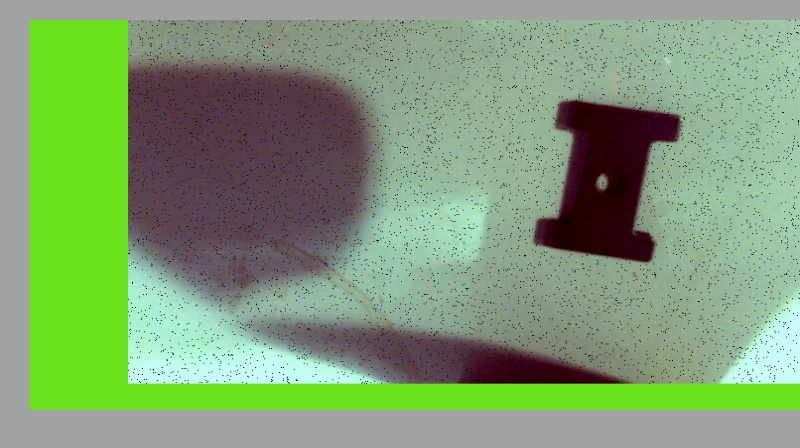O002: (542, 99, 680, 265)
